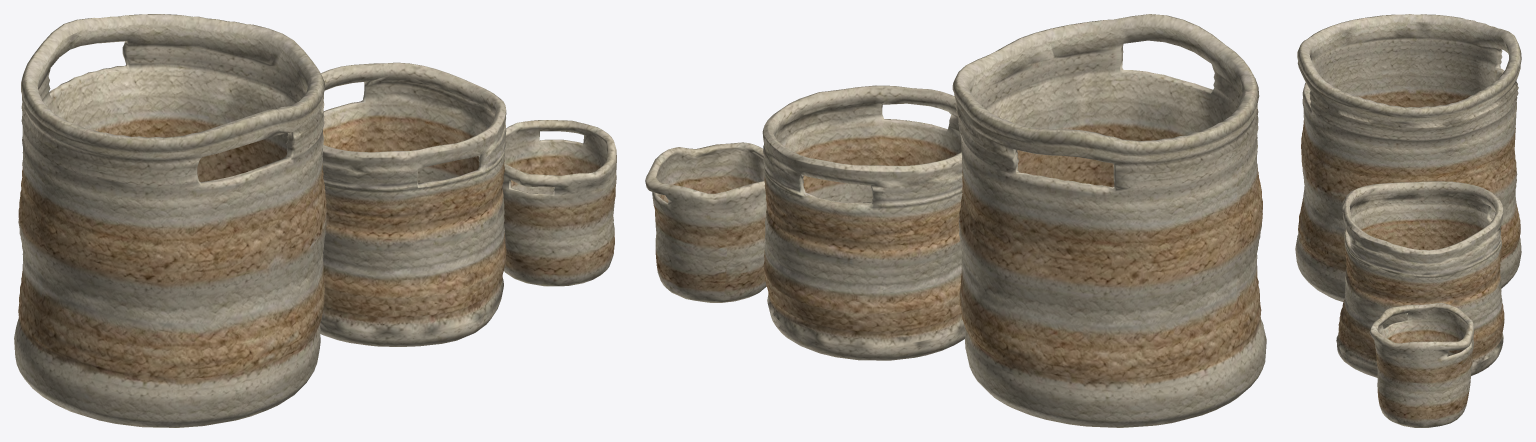
File: B07HSMVFKY.glb
3 views of the same model, side by side, from view 1: azimuth 30°, elevation 25°; view 2: azimuth 150°, elevation 25°; view 3: azimuth 270°, elevation 25° (orthographic). The views are drawn at different scales.
Parts seen in each view (by area): view 1: RootNode; view 2: RootNode; view 3: RootNode.
Boxes of the visible parts, x1,y1,x2,y2 form: RootNode: [14, 14, 616, 427]; RootNode: [645, 14, 1266, 427]; RootNode: [1295, 14, 1521, 427].
Bounding box in the file's own units: 0.7994 × 0.3961 × 0.3628.
Materials: 1 (1 with a texture image).
